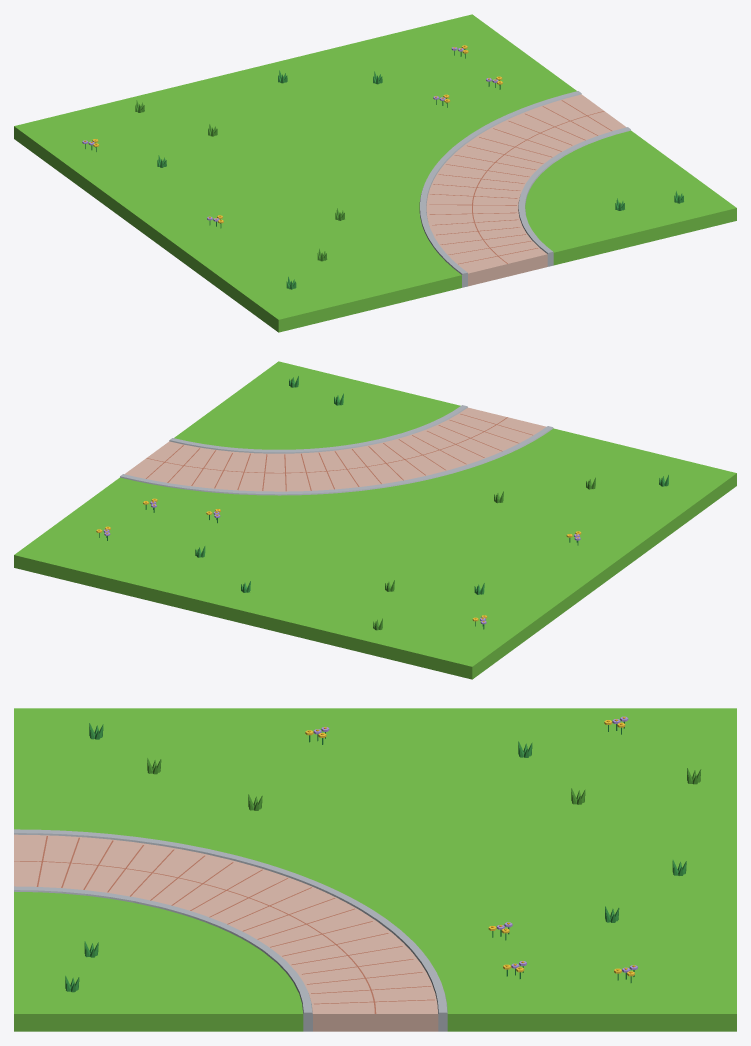
The model's file is caminho_parque_curva.glb.
3 renders of one model, top to bottom at view 1: azimuth 30°, elevation 25°; view 2: azimuth 150°, elevation 25°; view 3: azimuth 270°, elevation 25°, orthographic. The views are drawn at different scales.
Parts seen in each view (by area): view 1: caminho_parque_curva; view 2: caminho_parque_curva; view 3: caminho_parque_curva.
Part boxes in pixels (x1,y1,x2,y2): caminho_parque_curva: [14, 14, 736, 332]; caminho_parque_curva: [14, 361, 736, 679]; caminho_parque_curva: [14, 708, 736, 1031].
Bounding box in the file's own units: 15 × 0.6825 × 15.
1 material, 1 textured.
